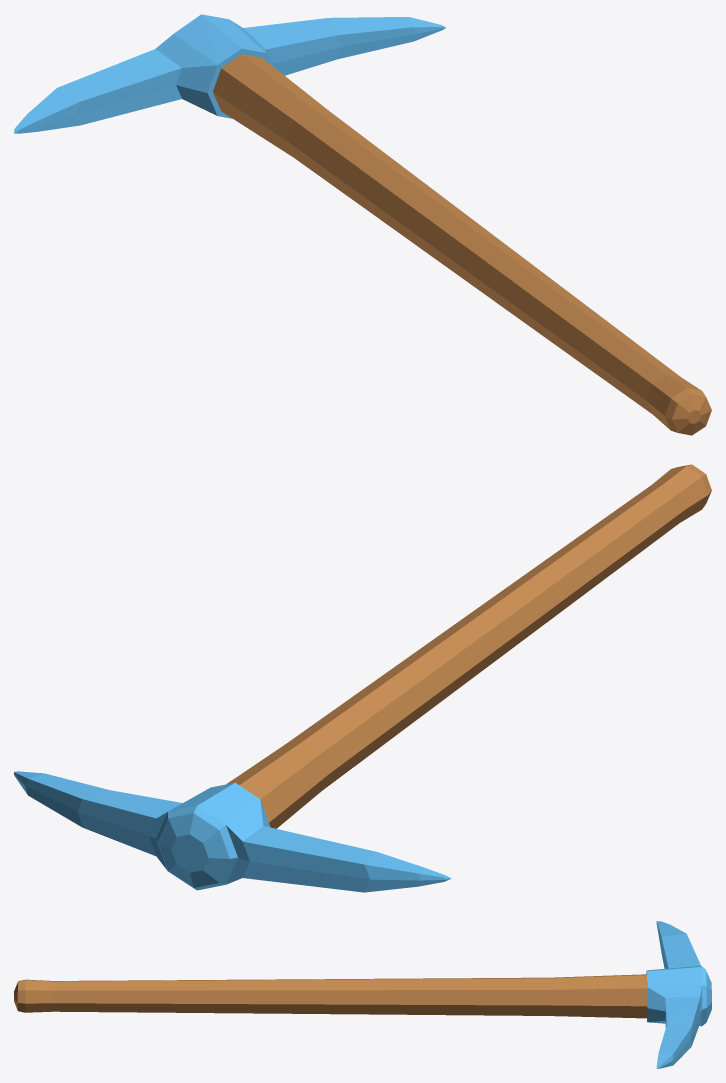
File: diamond.gltf
The picture shows the model from 3 angles, top to bottom: view 1: azimuth 30°, elevation 25°; view 2: azimuth 150°, elevation 25°; view 3: azimuth 270°, elevation 25°; orthographic projection. The views are drawn at different scales.
Parts seen in each view (by area): view 1: imagetostl_mesh0; view 2: imagetostl_mesh0; view 3: imagetostl_mesh0.
Boxes of the visible parts, left/top/right/bottom form: imagetostl_mesh0: left=14, top=14, right=711, bottom=435; imagetostl_mesh0: left=14, top=464, right=711, bottom=892; imagetostl_mesh0: left=14, top=921, right=711, bottom=1068.
Size of the model in its own units: 4.62 by 0.8544 by 9.26.
